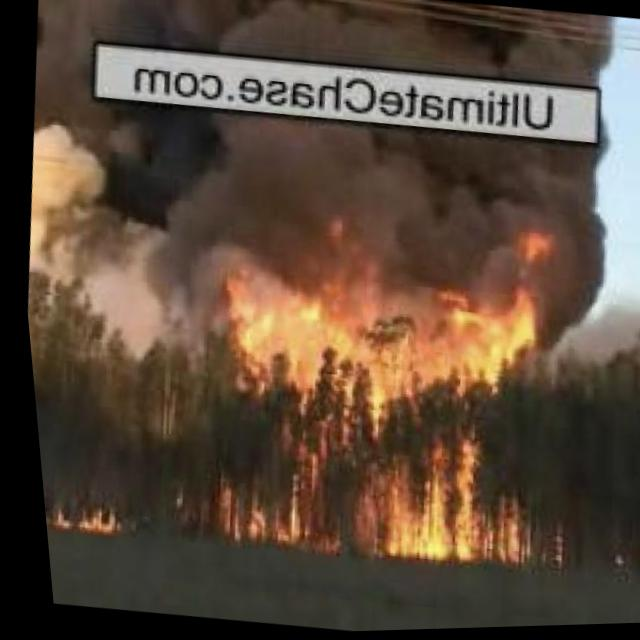Fire: (176, 188, 575, 577), (34, 489, 111, 535), (633, 557, 640, 599)
